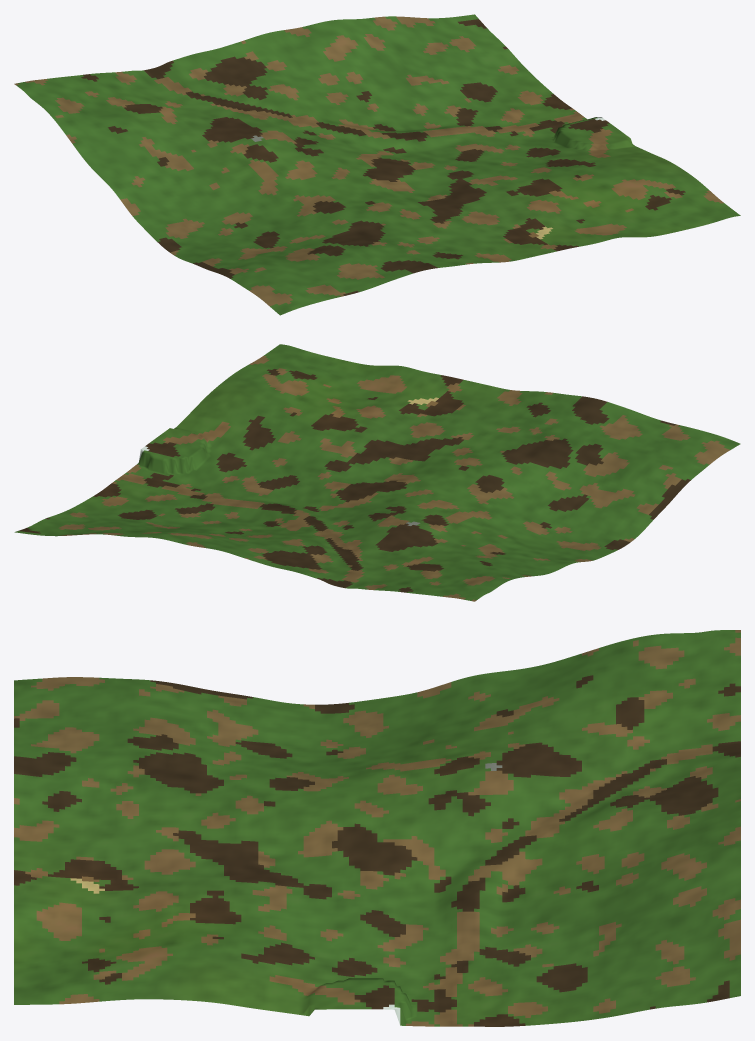
The model's file is chunk_1_6.glb.
3 renders of one model, top to bottom at view 1: azimuth 30°, elevation 25°; view 2: azimuth 150°, elevation 25°; view 3: azimuth 270°, elevation 25°, orthographic. The views are drawn at different scales.
Parts seen in each view (by area): view 1: Surface_Grass, Surface_Dirt, Surface_Mud; view 2: Surface_Grass, Surface_Dirt, Surface_Mud; view 3: Surface_Grass, Surface_Dirt, Surface_Mud.
Boxes of the visible parts, x1,y1,x2,y2 form: Surface_Grass: [16, 14, 740, 315]; Surface_Dirt: [14, 16, 723, 306]; Surface_Mud: [81, 19, 685, 295]; Surface_Grass: [14, 344, 740, 600]; Surface_Dirt: [58, 356, 730, 601]; Surface_Mud: [18, 369, 690, 592]; Surface_Grass: [14, 630, 740, 1026]; Surface_Dirt: [14, 630, 740, 1026]; Surface_Mud: [14, 675, 740, 1026].
Size of the model in its own units: 256 by 34.86 by 256.
